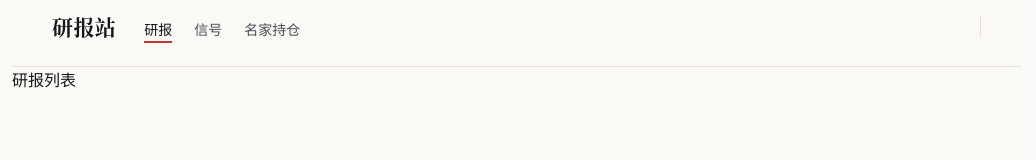
Test: 切栏目时顶栏是同一个节点,不重建
Click the link "信号": coordinates (208, 31) [194,19,222,43]
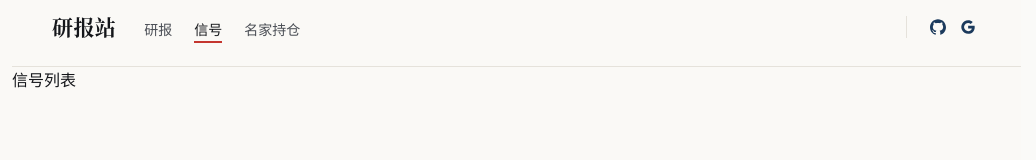
Expected: the text "信号列表" is shown, [12,70,76,90]
